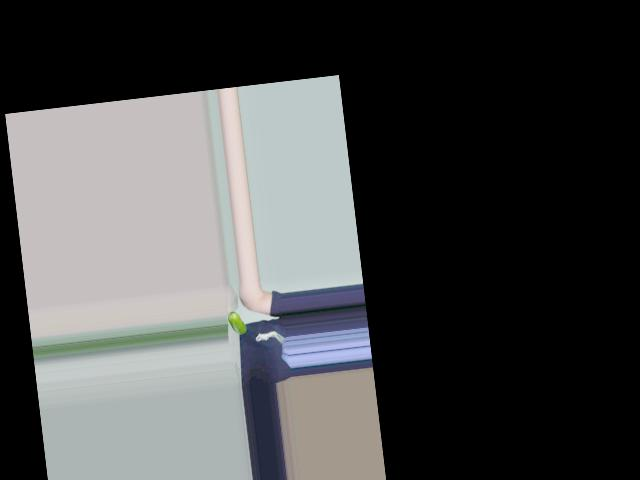cucumber: (226, 309, 246, 335)
